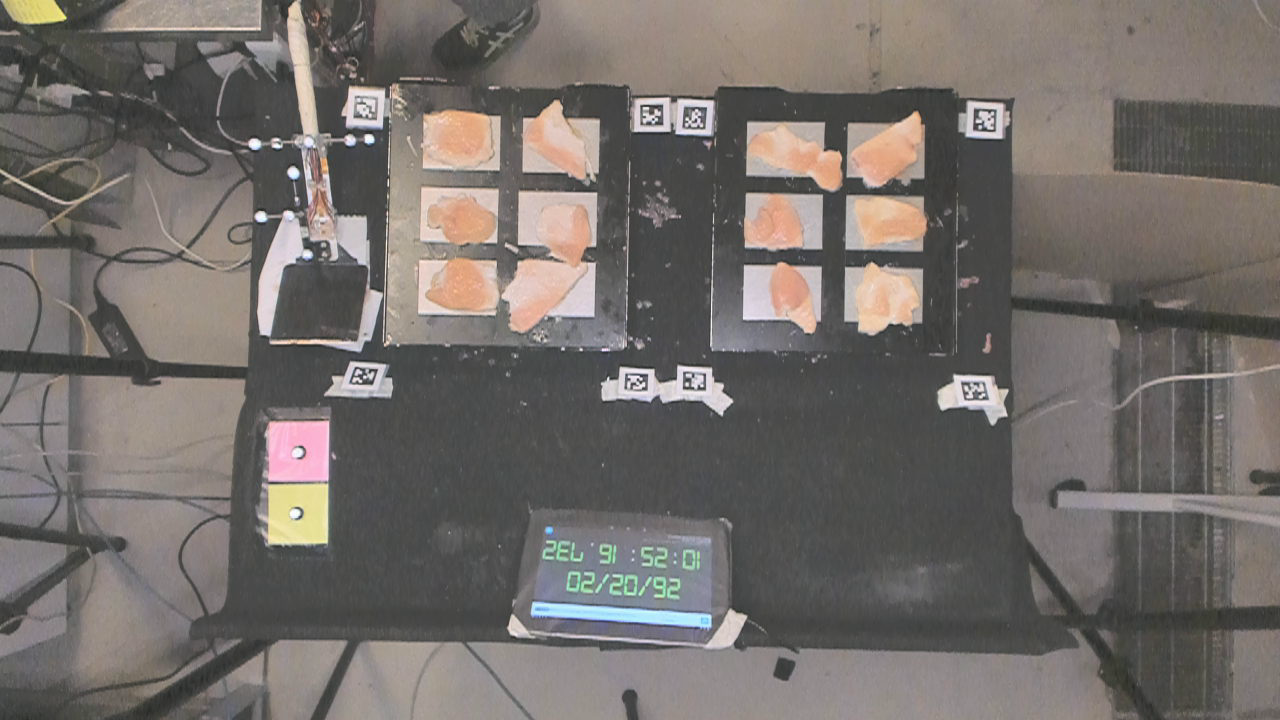chicken: (750, 115, 844, 195), (518, 96, 598, 182), (505, 257, 592, 335), (851, 106, 921, 187), (859, 262, 920, 336), (421, 112, 497, 171), (423, 192, 507, 244), (775, 250, 824, 336), (856, 192, 928, 246), (428, 255, 497, 311), (741, 200, 812, 254), (536, 198, 593, 265)
marker: (268, 422, 329, 483)
